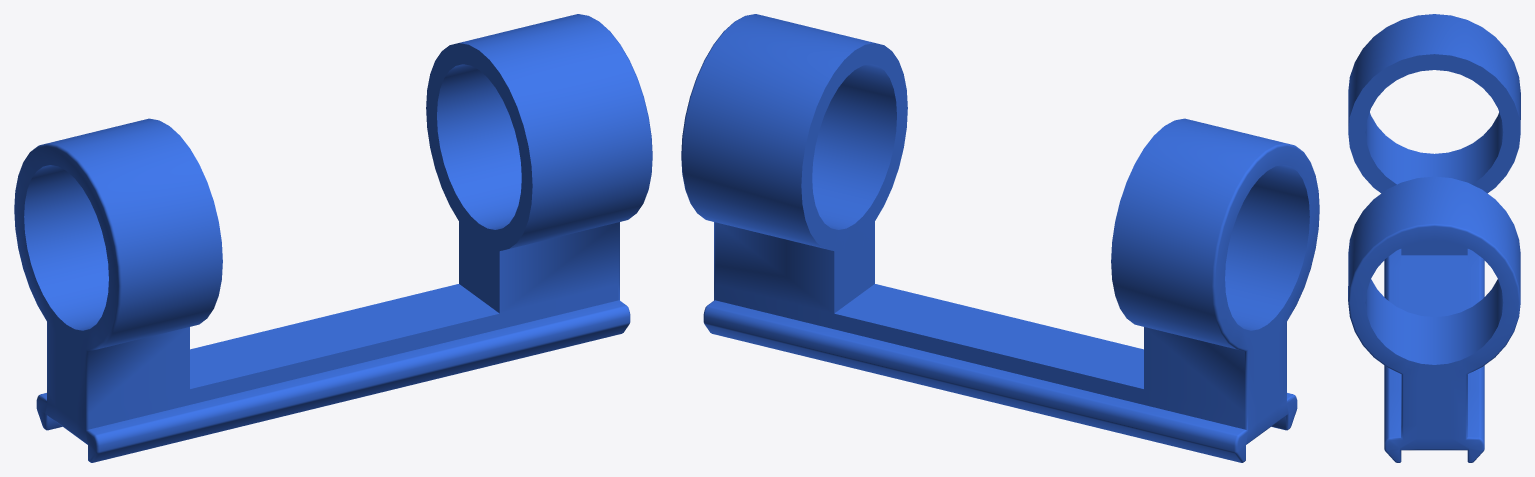
File: VuduMount.fbx
The picture shows the model from 3 angles, left to right: view 1: azimuth 30°, elevation 25°; view 2: azimuth 150°, elevation 25°; view 3: azimuth 270°, elevation 25°; orthographic projection. The views are drawn at different scales.
Parts seen in each view (by area): view 1: VuduMount; view 2: VuduMount; view 3: VuduMount.
Part boxes in pixels (left/top/right/bottom): VuduMount: left=14, top=14, right=652, bottom=462; VuduMount: left=681, top=14, right=1319, bottom=462; VuduMount: left=1348, top=14, right=1520, bottom=462.
Bounding box in the file's own units: 11.43 × 6.04 × 3.95.
